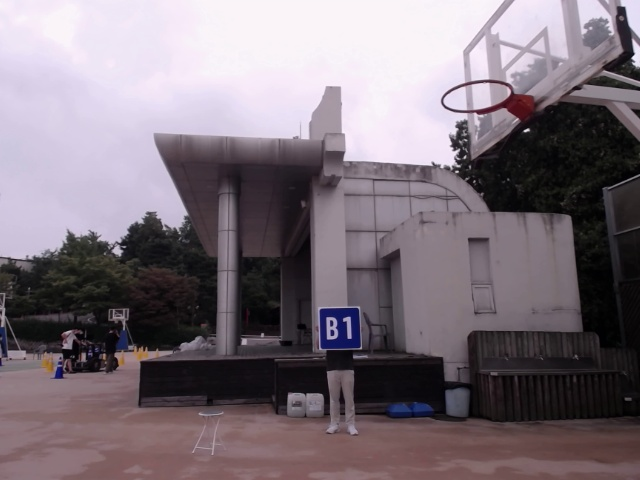delivery_b1: (318, 307, 362, 350)
